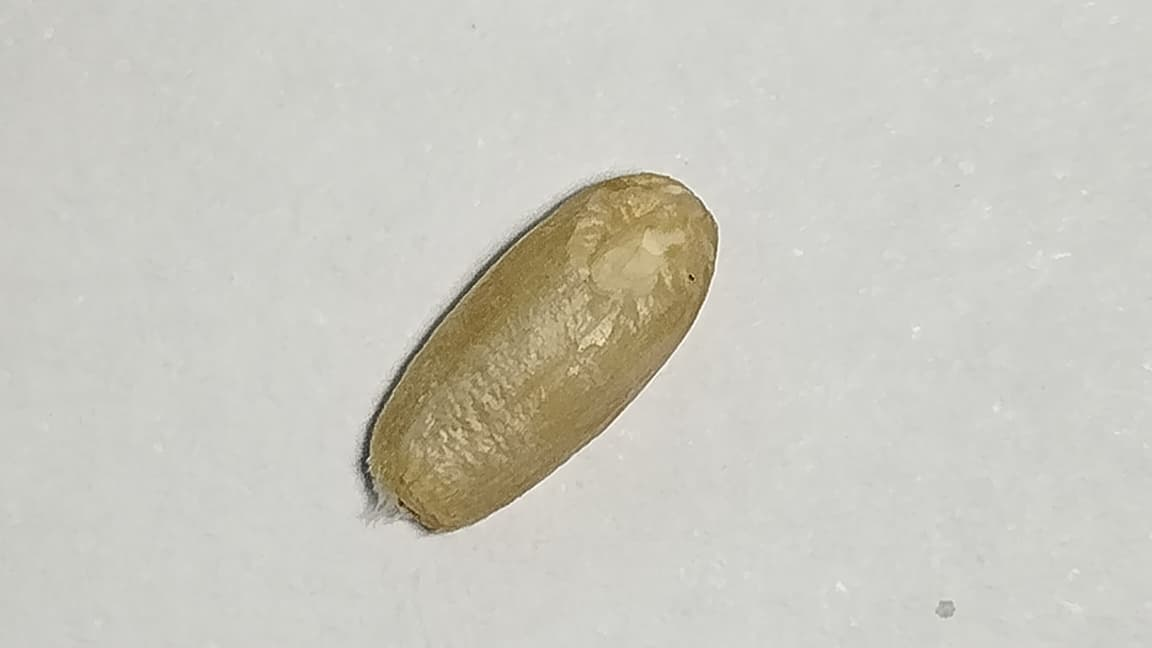healthy: (367, 174, 717, 531)
